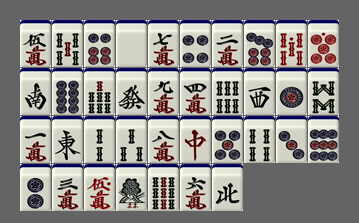0m: (84, 164, 115, 211)
0p: (308, 20, 339, 67)
0s: (276, 20, 307, 67)
1m: (20, 116, 51, 163)
1p: (276, 68, 307, 115)
1s: (116, 164, 147, 211)
1z: (52, 116, 83, 163)
2m: (212, 20, 243, 67)
2p: (20, 164, 51, 211)
2s: (84, 116, 115, 163)
2z: (20, 68, 51, 115)
3m: (52, 164, 83, 211)
3p: (276, 116, 307, 163)
3s: (116, 116, 147, 163)
3z: (244, 68, 275, 115)
4m: (180, 68, 211, 115)
4p: (180, 20, 211, 67)
4s: (244, 116, 275, 163)
4z: (212, 164, 243, 211)
5m: (20, 20, 51, 67)
5p: (212, 116, 243, 163)
5s: (52, 20, 83, 67)
5z: (116, 20, 147, 67)
6m: (180, 164, 211, 211)
6p: (84, 20, 115, 67)
6s: (212, 68, 243, 115)
6z: (116, 68, 147, 115)
7m: (148, 20, 179, 67)
7p: (244, 20, 275, 67)
7s: (84, 68, 115, 115)
7z: (180, 116, 211, 163)
8m: (148, 116, 179, 163)
8p: (52, 68, 83, 115)
8s: (308, 68, 339, 115)
9m: (148, 68, 179, 115)
9p: (308, 116, 339, 163)
9s: (148, 164, 179, 211)
